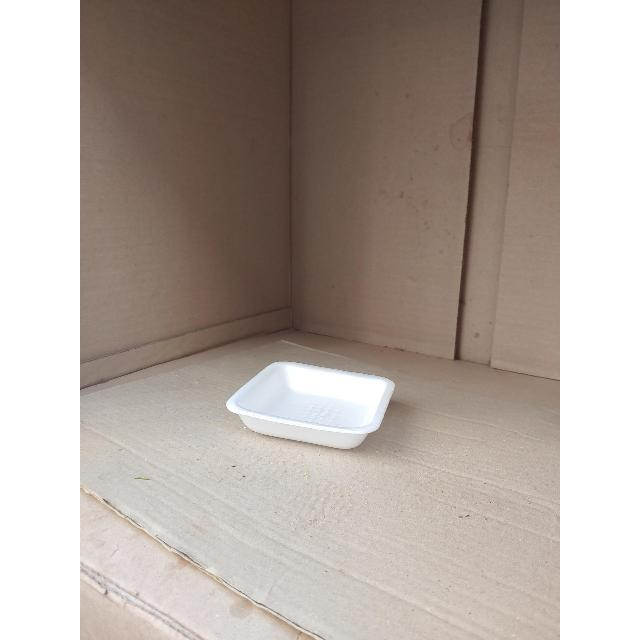Recipiente plastico: (226, 362, 394, 449)
